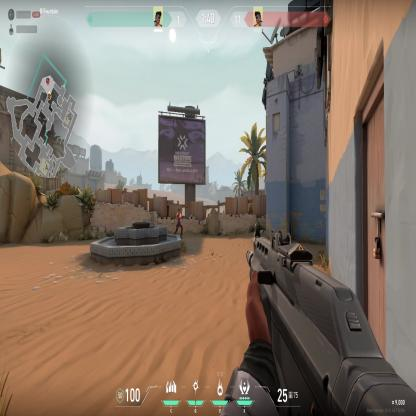enemy: (172, 207, 184, 235)
